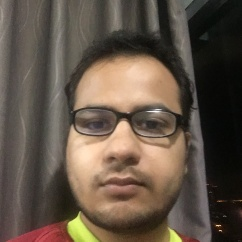glasses: (69, 108, 178, 138)
